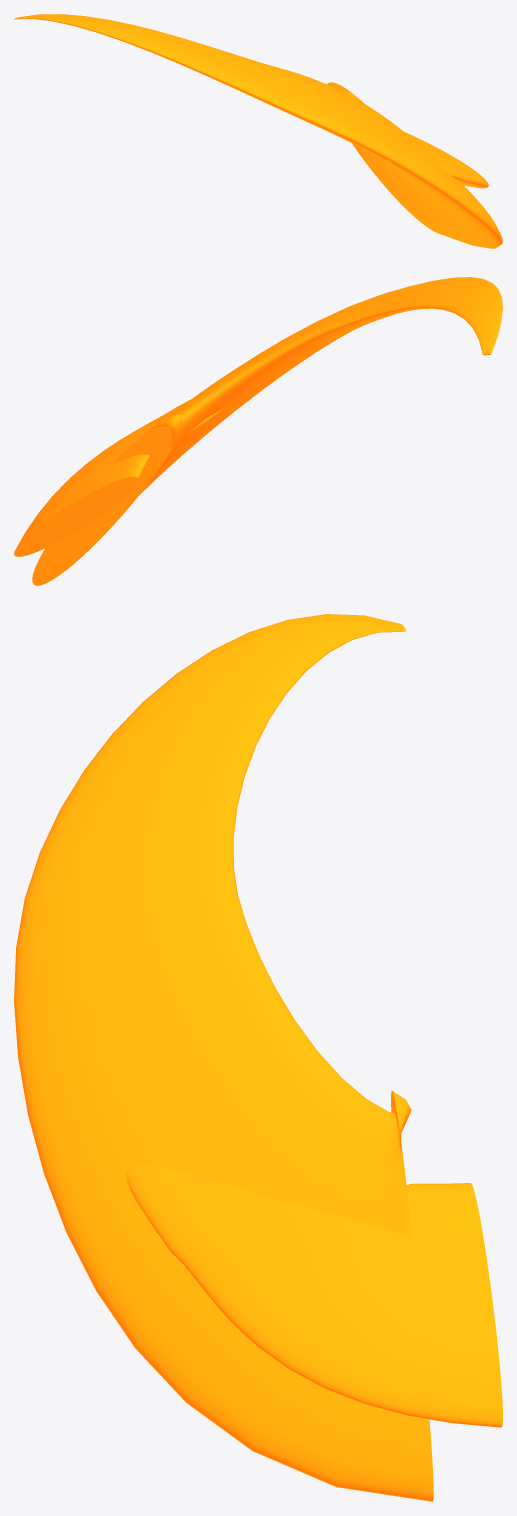
File: Attack1Slash.glb
3 renders of one model, top to bottom at view 1: azimuth 30°, elevation 25°; view 2: azimuth 150°, elevation 25°; view 3: azimuth 270°, elevation 25°, orthographic. The views are drawn at different scales.
Parts seen in each view (by area): view 1: Attack1Swing1, Attack1Swing2; view 2: Attack1Swing1, Attack1Swing2; view 3: Attack1Swing1, Attack1Swing2.
Part boxes in pixels (<box>): Attack1Swing1: <box>14,14,502,248</box>; Attack1Swing2: <box>405,132,488,188</box>; Attack1Swing1: <box>32,277,502,585</box>; Attack1Swing2: <box>14,372,282,556</box>; Attack1Swing1: <box>14,614,433,1501</box>; Attack1Swing2: <box>126,1164,502,1427</box>.
Bounding box in the file's own units: 7.86 × 5.77 × 4.61.
